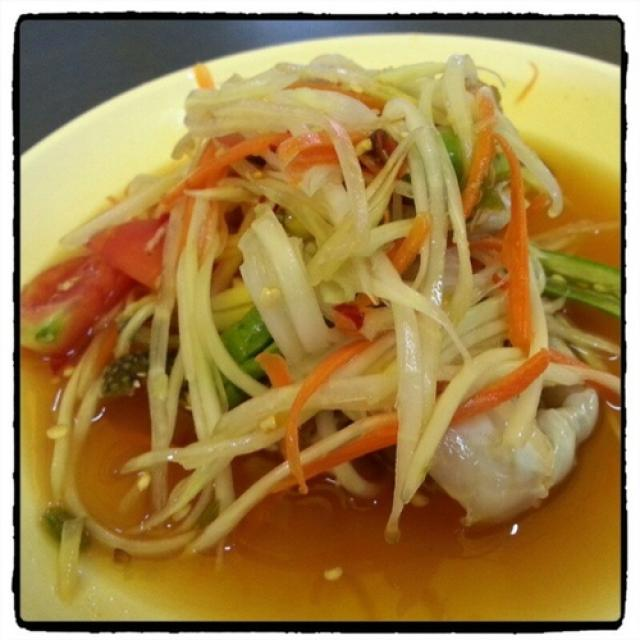蔬菜料理: (44, 37, 616, 599)
